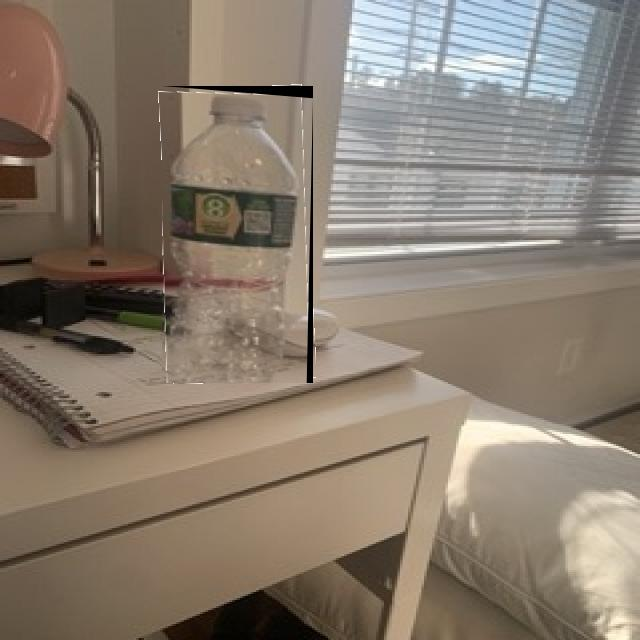water_bottle: (162, 86, 313, 383)
